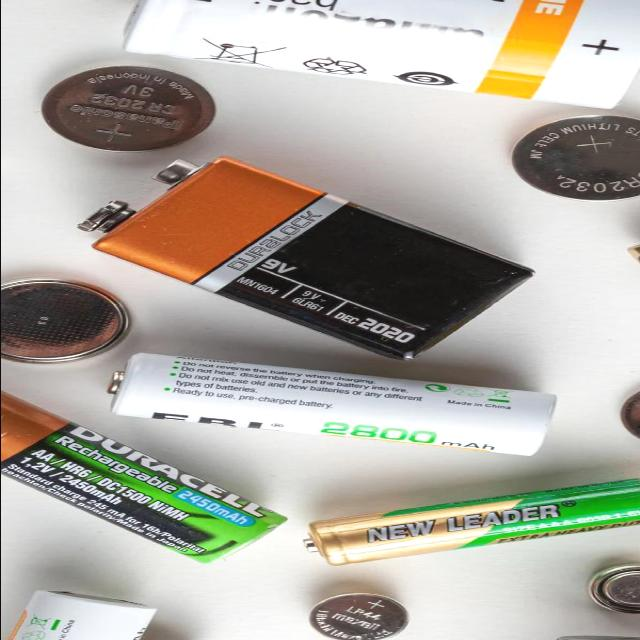9V: (73, 155, 541, 363)
AA: (1, 388, 294, 568), (98, 350, 562, 459), (298, 476, 640, 568)
COIN: (38, 64, 221, 154), (1, 276, 135, 366)
